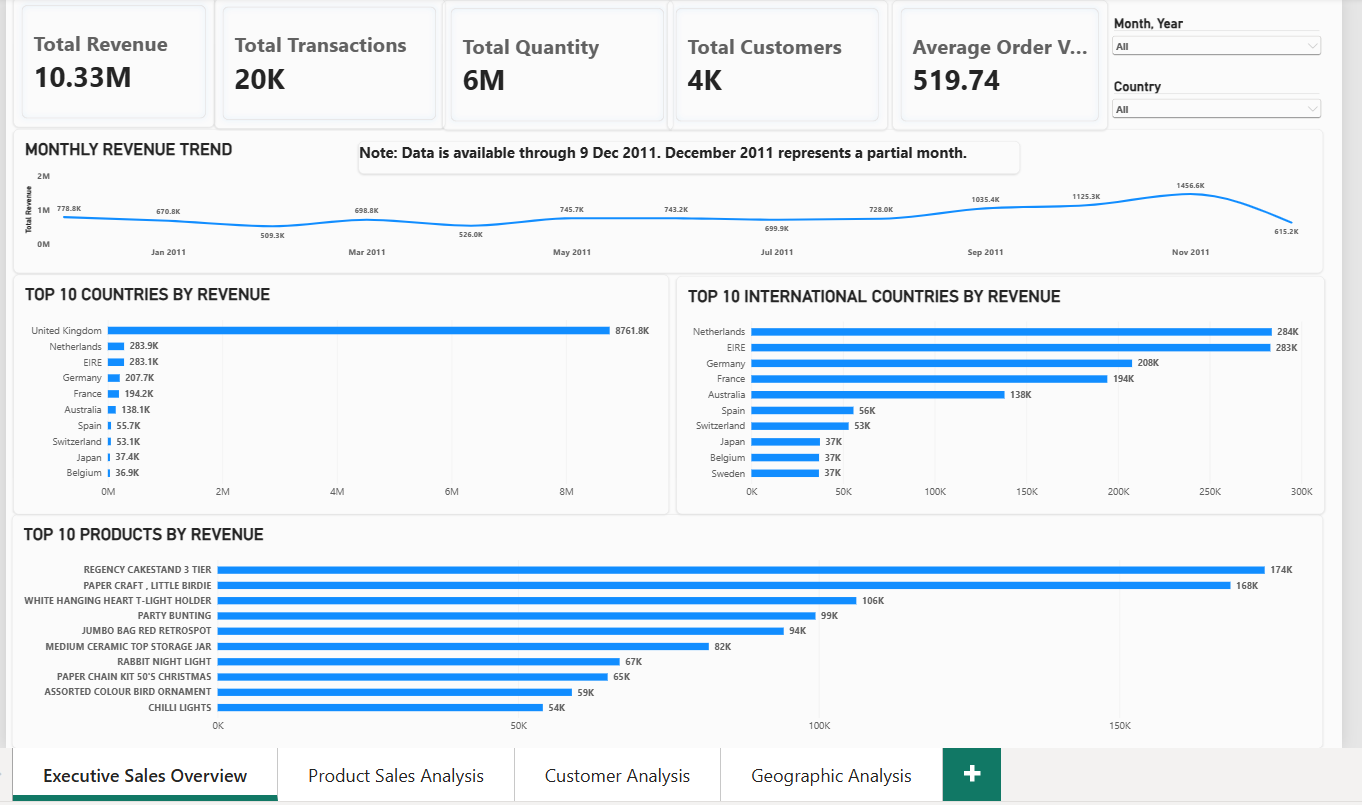

What the dashboard file says about the page in this screenshot:
{"tool":"powerbi","page":{"name":"Executive Sales Overview","canvas":[1920,1080],"ordinal":0},"visuals":[{"type":"cardVisual","fields":{"Data":["online_retail_sales.Total Revenue"]},"box":[10,0,289.5,187.2],"z":0},{"type":"cardVisual","fields":{"Data":["online_retail_sales.Total Transactions"]},"box":[299.8,2.2,331.9,187.2],"z":1000},{"type":"cardVisual","fields":{"Data":["online_retail_sales.Total Quantity"]},"box":[627.7,4.3,331.9,187.2],"z":2000},{"type":"cardVisual","fields":{"Data":["online_retail_sales.Total Customers"]},"box":[951.3,4.3,317,187.2],"z":3000},{"type":"cardVisual","fields":{"Data":["online_retail_sales.Average Order Value"]},"box":[1274.9,4.3,309.5,187.2],"z":4000},{"type":"lineChart","title":"MONTHLY REVENUE TREND","fields":{"Category":["online_retail_sales.InvoiceDate.Variation.Date Hierarchy.Year","online_retail_sales.InvoiceDate.Variation.Date Hierarchy.Month"],"Y":["online_retail_sales.Total Revenue"]},"box":[10.8,189.8,1883.2,207.1],"z":5000},{"type":"barChart","title":"TOP 10 COUNTRIES BY REVENUE","fields":{"Category":["online_retail_sales.Country"],"Y":["online_retail_sales.Total Revenue"]},"box":[10.8,399.1,942.7,345.1],"z":6000},{"type":"barChart","title":"TOP 10 INTERNATIONAL COUNTRIES BY REVENUE","fields":{"Category":["online_retail_sales.Country"],"Y":["online_retail_sales.Total Revenue"]},"box":[964,400.3,931.9,343],"z":7000},{"type":"barChart","title":"TOP 10 PRODUCTS BY REVENUE","fields":{"Category":["online_retail_sales.Description"],"Y":["online_retail_sales.Standard Product Revenue"]},"box":[8.6,744.2,1885.4,336.5],"z":8000},{"type":"textbox","box":[506.9,207.1,951.3,47.5],"z":9000},{"type":"slicer","fields":{"Values":["DateTable.Month","DateTable.Year"]},"box":[1585.4,25,311.2,70.4],"z":10000},{"type":"slicer","fields":{"Values":["online_retail_sales.Country"]},"box":[1585.4,115.8,311.2,70.4],"z":11000}]}

Visuals, with their boxes on the page's 1920x1080 design canvas (x1, y1, x2, y2). These are canvas units, not pixel positions in the 1362x805 screenshot, which may show the page scaled, cropped or inside an application window:
cardVisual - online_retail_sales.Total Revenue: rect(10, 0, 300, 187)
cardVisual - online_retail_sales.Total Transactions: rect(300, 2, 632, 189)
cardVisual - online_retail_sales.Total Quantity: rect(628, 4, 960, 192)
cardVisual - online_retail_sales.Total Customers: rect(951, 4, 1268, 192)
cardVisual - online_retail_sales.Average Order Value: rect(1275, 4, 1584, 192)
"MONTHLY REVENUE TREND" lineChart: rect(11, 190, 1894, 397)
"TOP 10 COUNTRIES BY REVENUE" barChart: rect(11, 399, 954, 744)
"TOP 10 INTERNATIONAL COUNTRIES BY REVENUE" barChart: rect(964, 400, 1896, 743)
"TOP 10 PRODUCTS BY REVENUE" barChart: rect(9, 744, 1894, 1081)
textbox: rect(507, 207, 1458, 255)
slicer - DateTable.Month x DateTable.Year: rect(1585, 25, 1897, 95)
slicer - online_retail_sales.Country: rect(1585, 116, 1897, 186)
